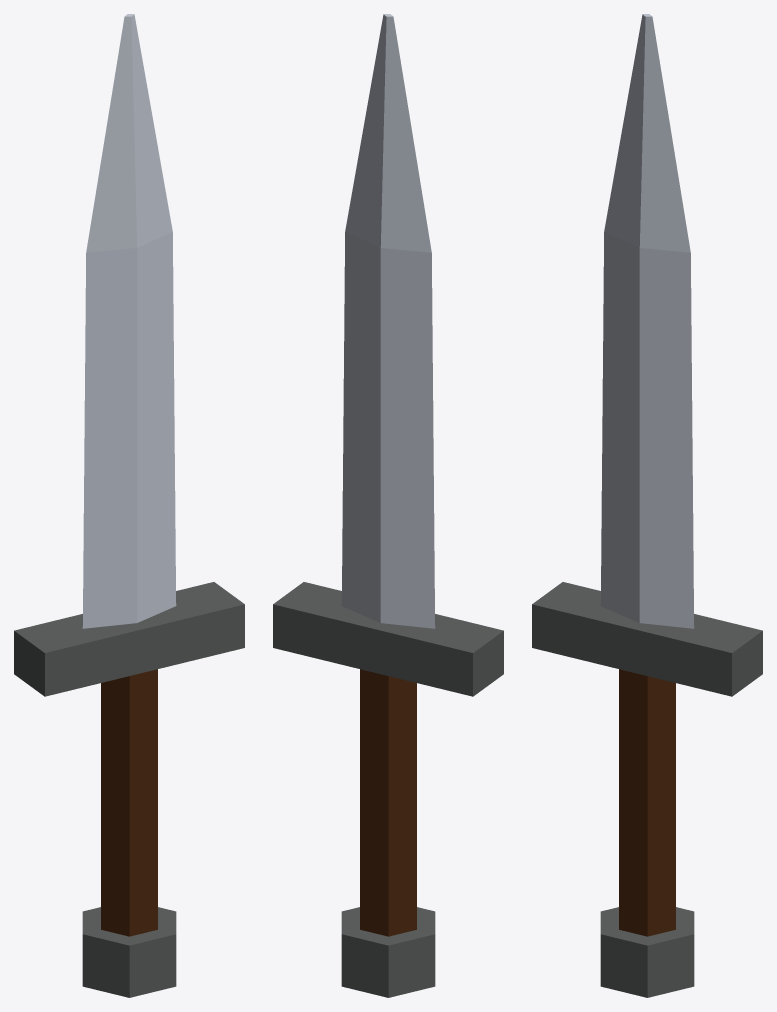
Rendered from dagger_iron.glb.
3 renders of one model, left to right at view 1: azimuth 30°, elevation 25°; view 2: azimuth 150°, elevation 25°; view 3: azimuth 330°, elevation 25°, orthographic.
Parts seen in each view (by area): view 1: dagger_iron; view 2: dagger_iron; view 3: dagger_iron.
Part boxes in pixels (left/top/right/bottom): dagger_iron: left=14, top=14, right=244, bottom=997; dagger_iron: left=273, top=14, right=503, bottom=997; dagger_iron: left=532, top=14, right=762, bottom=997.
Bounding box in the file's own units: 0.12 × 0.55 × 0.0485.
